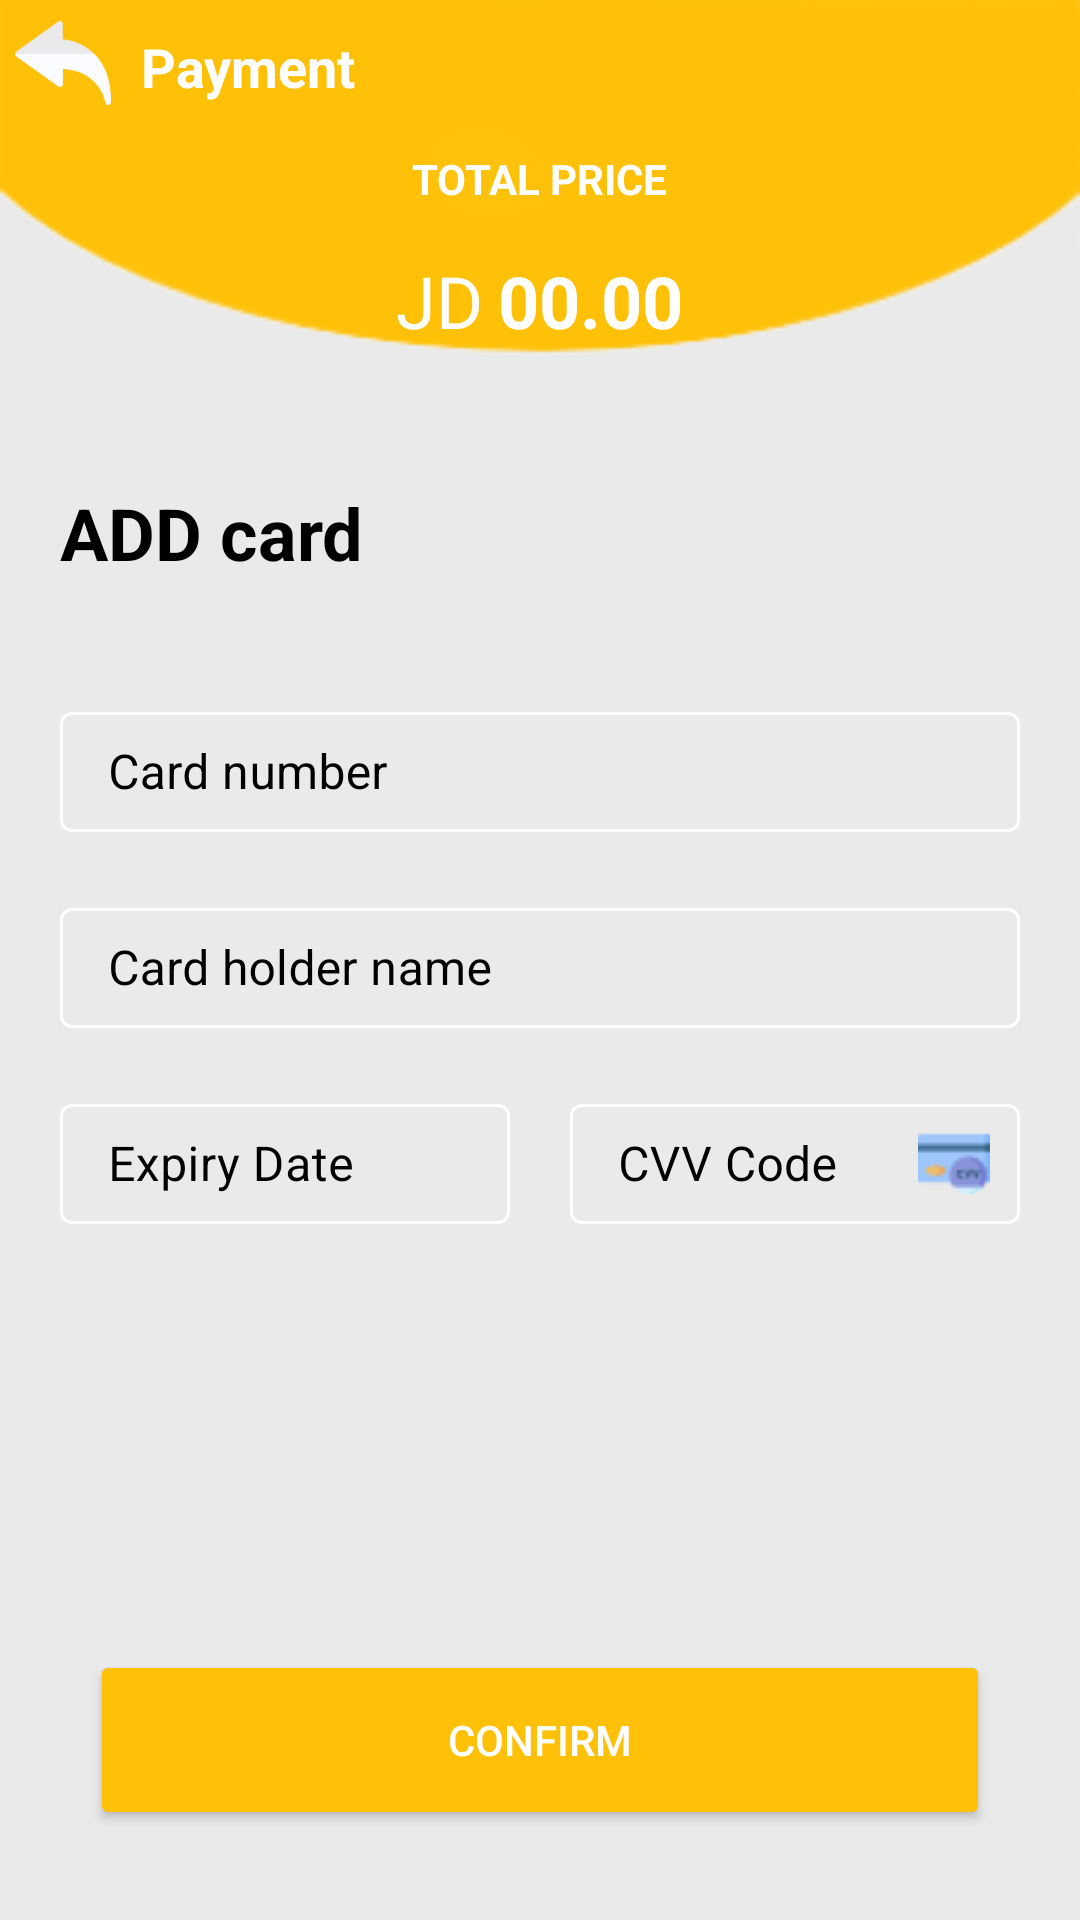

Icons on this 1080px x 1920px Android screen, each with its box as bbox=[x1, y1, x2, y2]:
back: bbox=[15, 21, 111, 105]
